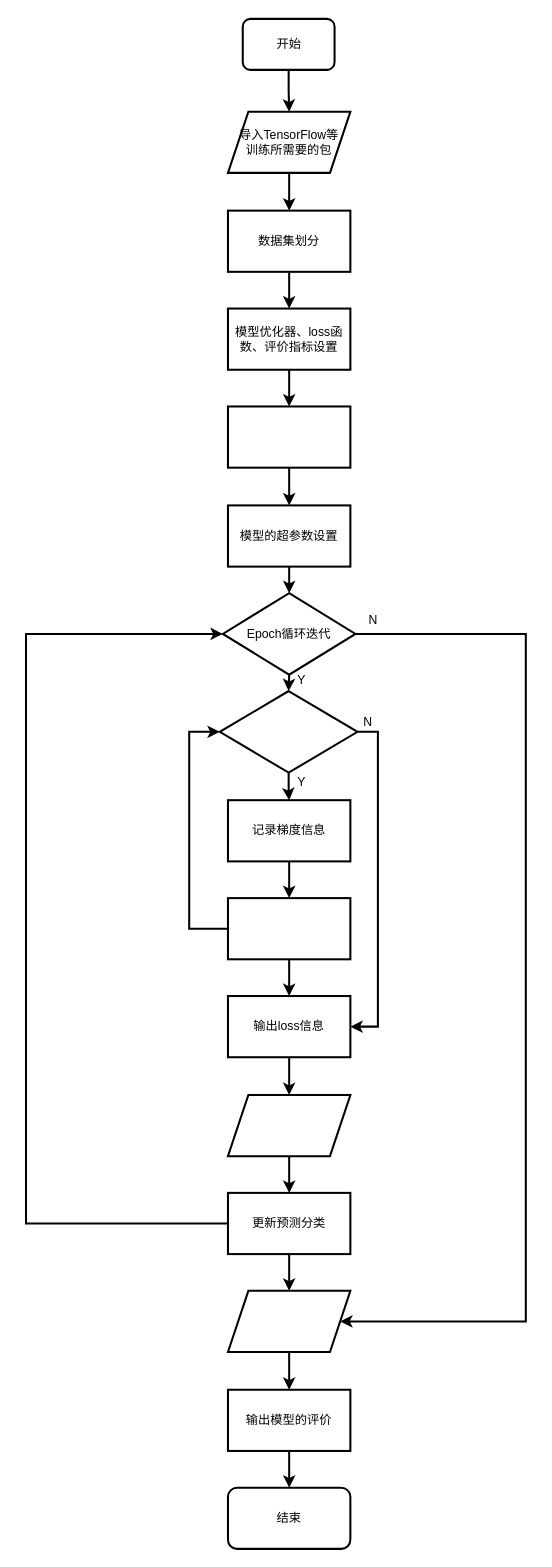
Image size: 552x1567. Some labels were removed from this diagram. The centre of each missing label's shape, as x and y in pixels:
"Batch循环迭代" goes at pixel 288 731.
"保存最优权重" goes at pixel 288 1321.
"权重w、偏置b参数 更新" goes at pixel 288 1125.
"计算loss对各个参数的梯度" goes at pixel 288 928.
"设置checkpoint训练结果文件保存路径" goes at pixel 288 436.
